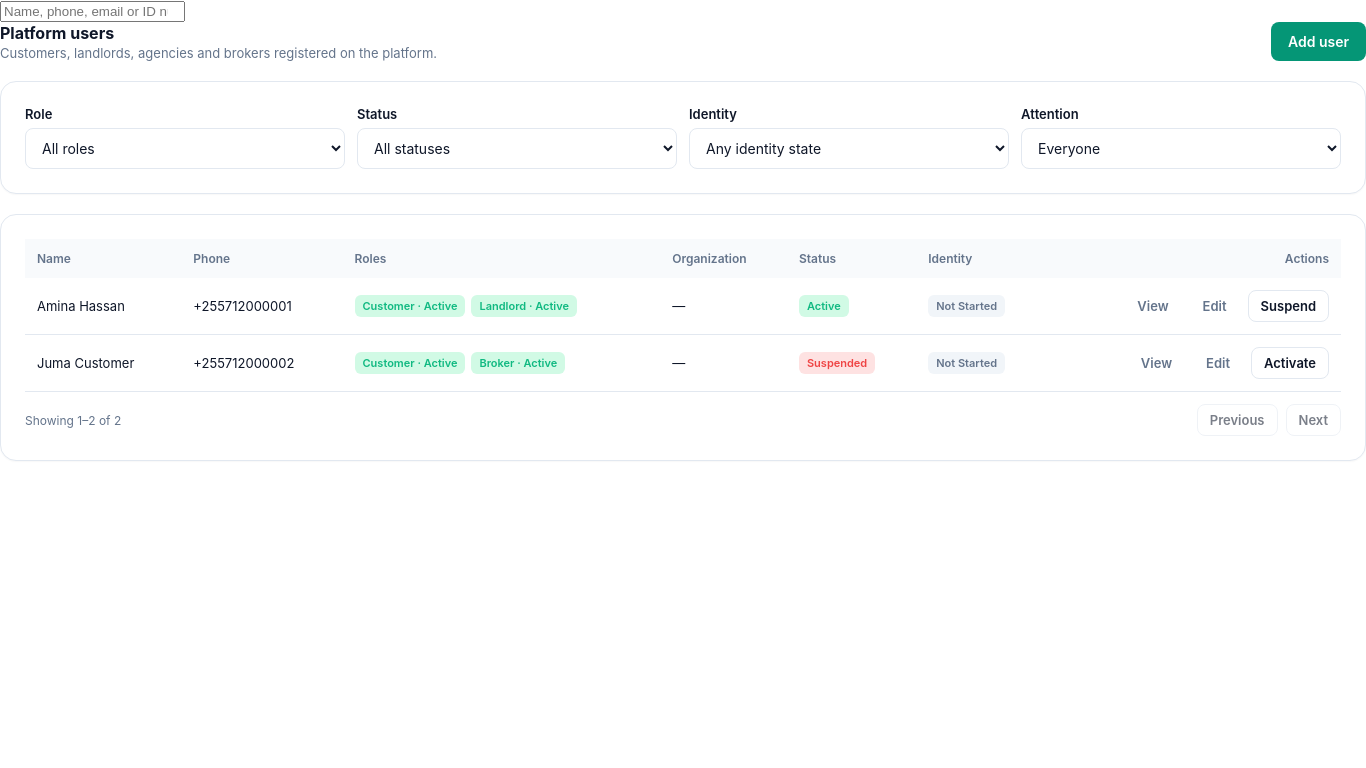
Test: user identity and KYC › a user opens on their account, with identity behind a tab
Click the button "View" in the row of "Amina Hassan": (1153, 306) [1124,290,1182,322]
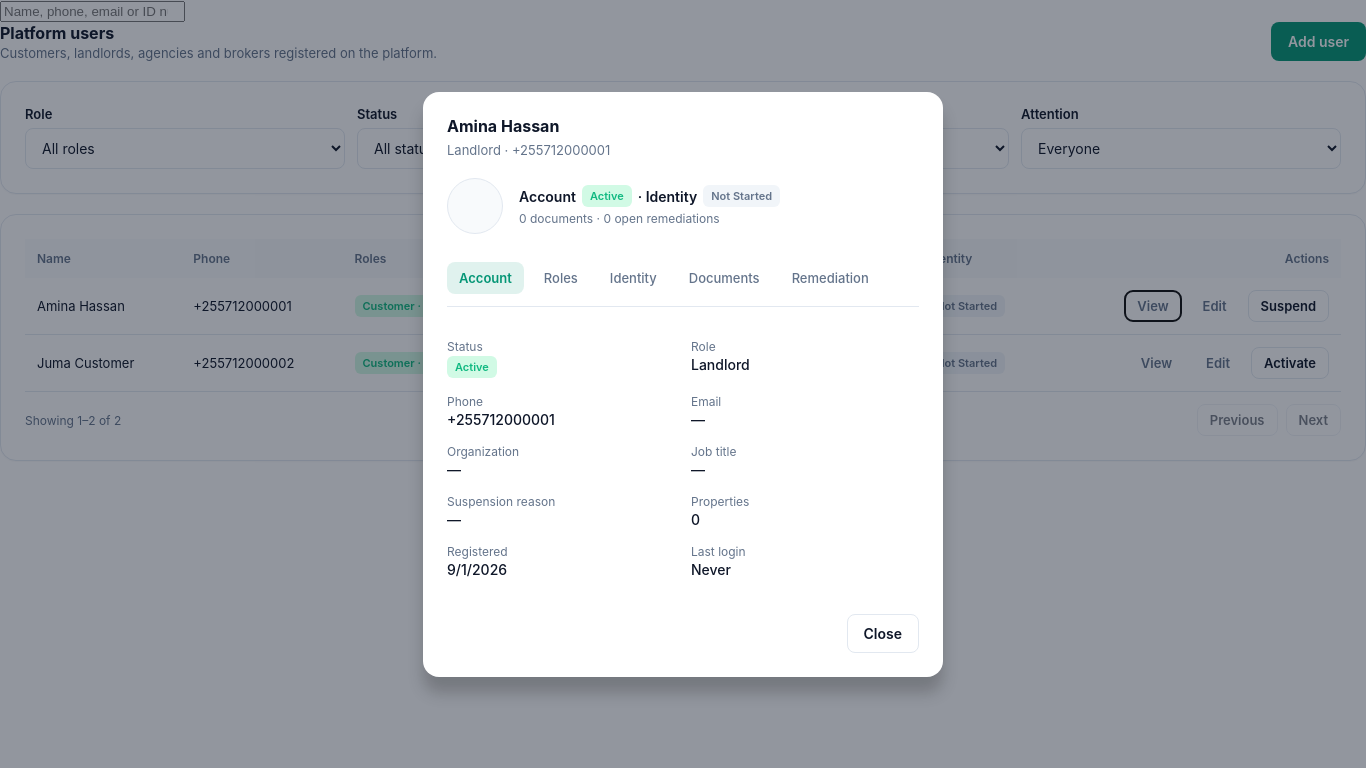
Expected: the text "+255712000001" is shown, [447,410,555,428]
Expected: the button "Identity" is shown, [598,262,669,294]
Expected: the button "Documents" is shown, [677,262,772,294]
